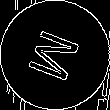M_E: (23, 25, 87, 85)
